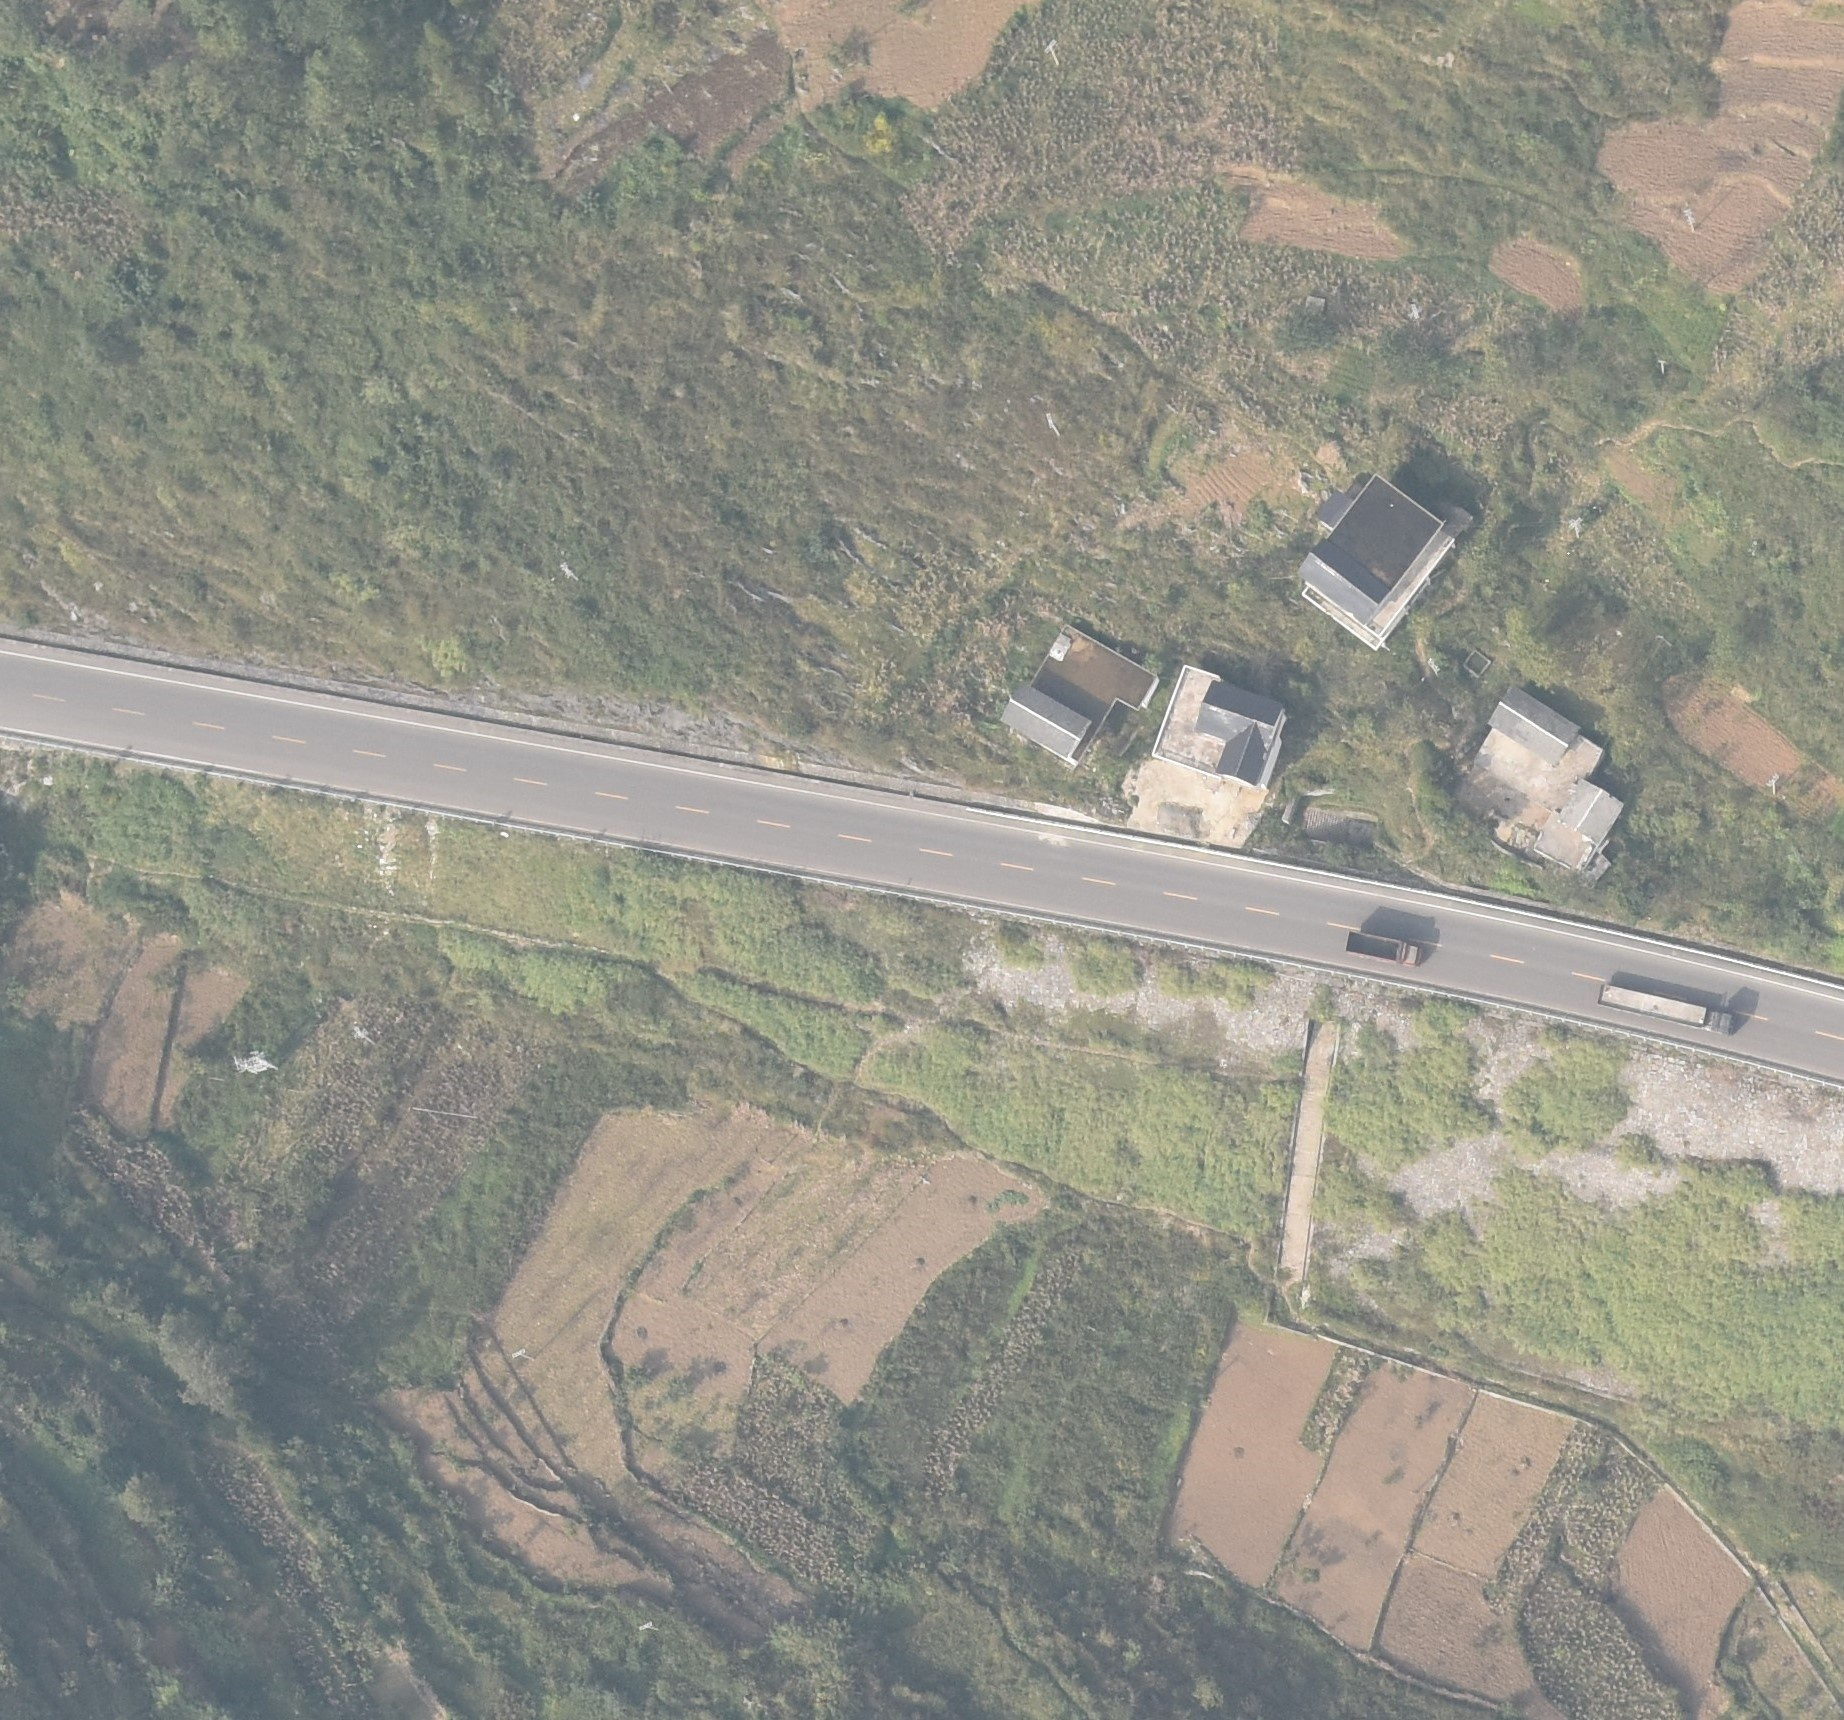building: (1296, 474, 1452, 653), (999, 623, 1155, 766), (1152, 662, 1284, 790), (1534, 778, 1623, 870), (1488, 687, 1580, 758)
cable-tower: (234, 1050, 279, 1073), (1043, 38, 1063, 66), (354, 1027, 378, 1049), (1683, 207, 1698, 233), (558, 564, 579, 582), (1568, 517, 1585, 538), (1408, 302, 1426, 321), (1046, 414, 1063, 434), (1764, 774, 1780, 794), (1427, 659, 1441, 679), (511, 1350, 533, 1362), (1660, 361, 1667, 378)
vehicle: (1594, 986, 1736, 1038), (1342, 930, 1422, 968)
